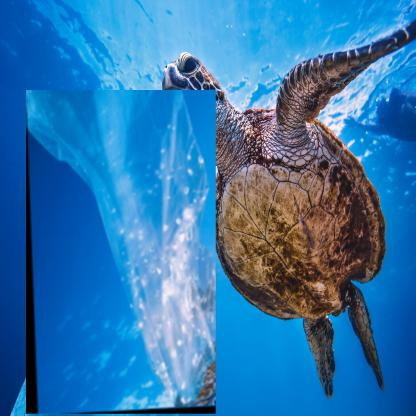plastic-bag: (26, 90, 217, 415)
